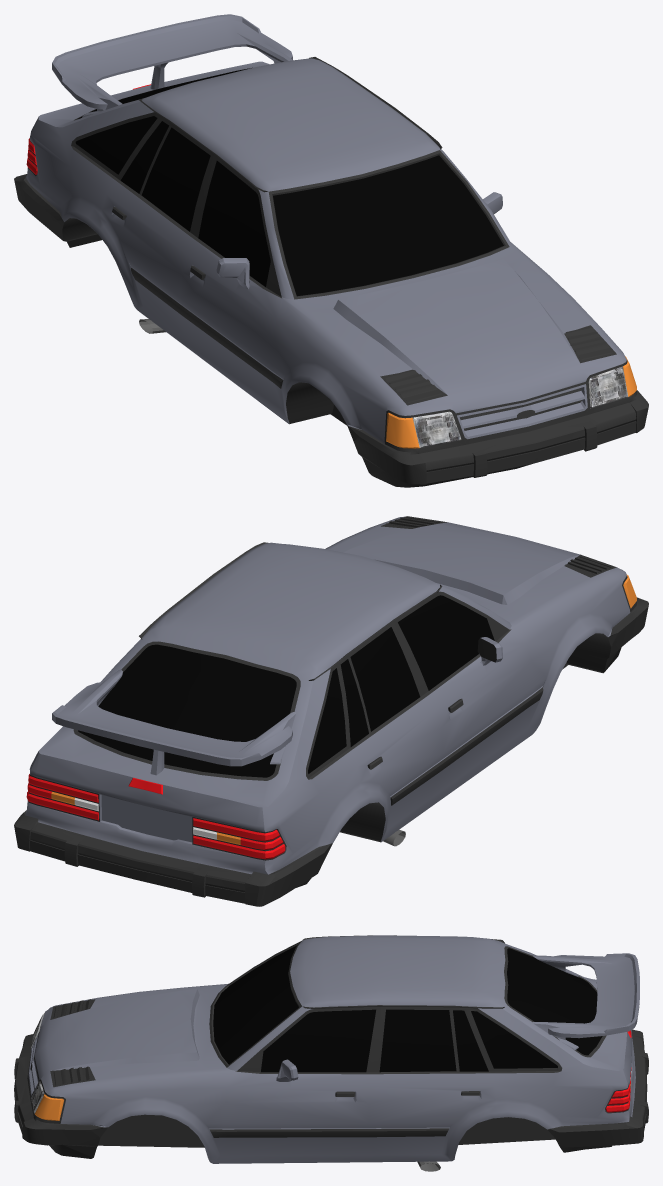
File: PlayerCar2.FBX
3 views of the same model, one above another, from view 1: azimuth 30°, elevation 25°; view 2: azimuth 150°, elevation 25°; view 3: azimuth 270°, elevation 25° (orthographic). The views are drawn at different scales.
Visible parts, largest first — view 1: PaintableBody, Windows, NotPaintableBody, Headlights; view 2: PaintableBody, Windows, NotPaintableBody, BrakeLights; view 3: PaintableBody, Windows, NotPaintableBody, BrakeLights, Headlights.
Part boxes in pixels (x1,y1,x2,y2): PaintableBody: (25,14,626,443); Windows: (75,67,503,296); NotPaintableBody: (14,57,648,487); Headlights: (412,366,628,447); PaintableBody: (25,516,630,874); Windows: (78,591,494,777); NotPaintableBody: (14,516,648,906); BrakeLights: (26,774,285,859); PaintableBody: (28,935,639,1163); Windows: (213,945,602,1072); NotPaintableBody: (14,935,648,1171); BrakeLights: (605,1030,631,1112); Headlights: (31,1013,44,1113).
Bounding box in the file's own units: 39.29 × 27.57 × 96.28.
Materials: 8 (1 with a texture image).
